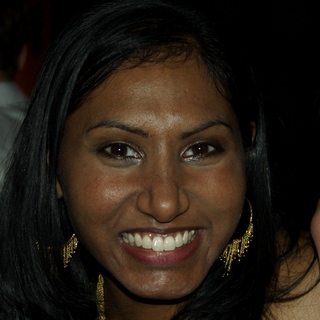eye: (95, 135, 147, 164), (176, 140, 223, 161)
